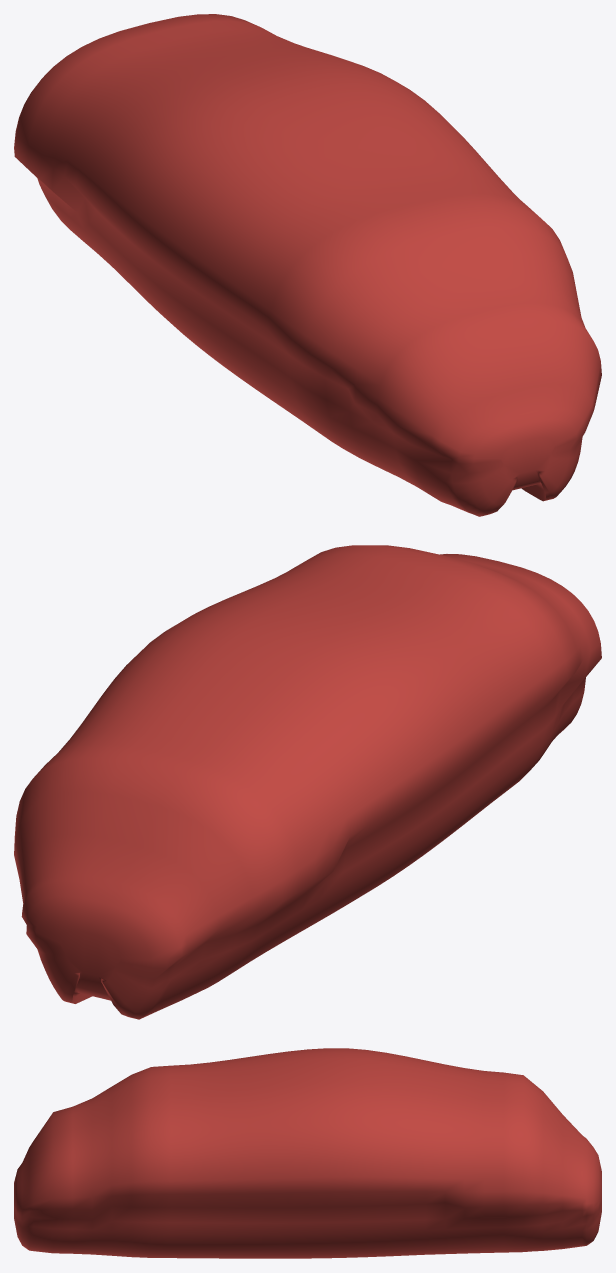
Rendered from touring.glb.
The picture shows the model from 3 angles, top to bottom: view 1: azimuth 30°, elevation 25°; view 2: azimuth 150°, elevation 25°; view 3: azimuth 270°, elevation 25°; orthographic projection. The views are drawn at different scales.
Visible parts, largest first — view 1: lod0; view 2: lod0; view 3: lod0.
Boxes of the visible parts, x1,y1,x2,y2 form: lod0: [14, 14, 601, 516]; lod0: [14, 545, 601, 1019]; lod0: [14, 1048, 601, 1258].
Size of what is drawn, in the model's own units: 0.4179 by 0.3222 by 1.
